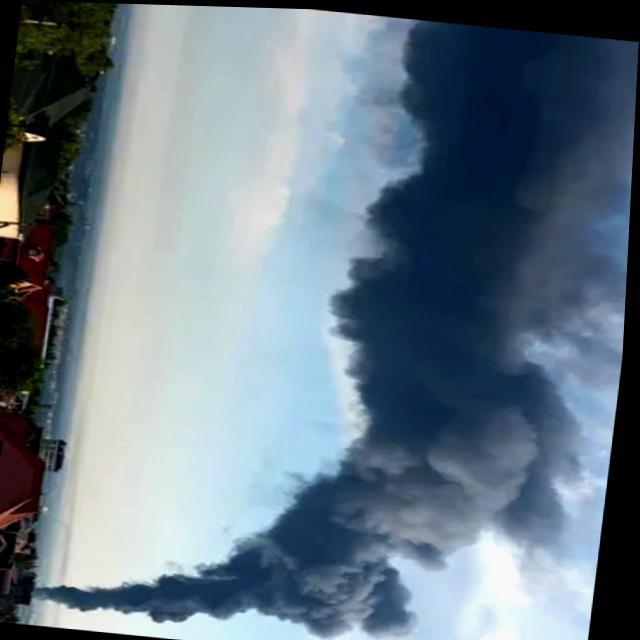no_helmet: (37, 1, 640, 640)
